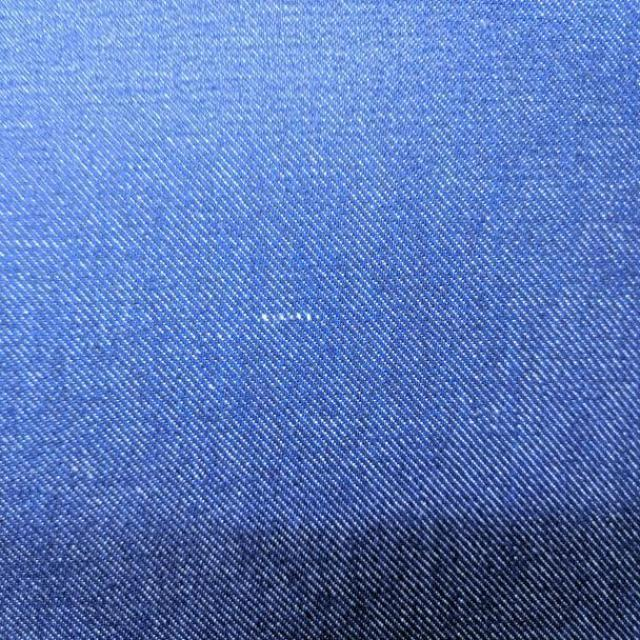Knot: (260, 311, 322, 325)
